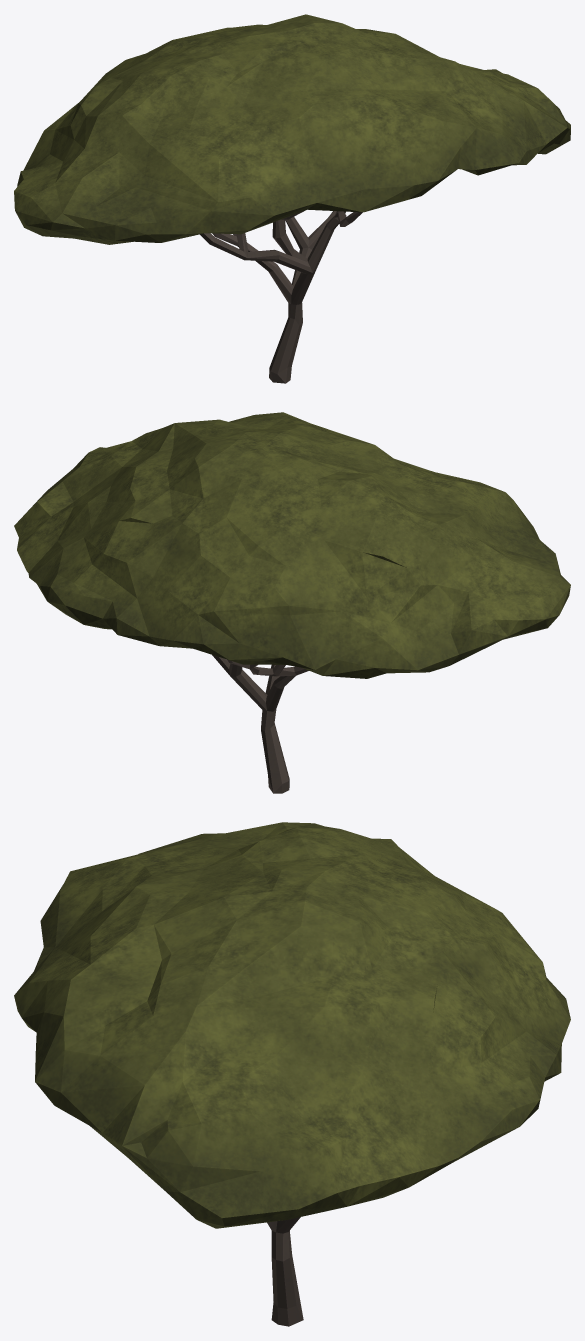
File: ThornTree.OBJ
3 views of the same model, one above another, from view 1: azimuth 30°, elevation 25°; view 2: azimuth 150°, elevation 25°; view 3: azimuth 270°, elevation 25° (orthographic). The views are drawn at different scales.
Parts seen in each view (by area): view 1: ThornTree_Mesh; view 2: ThornTree_Mesh; view 3: ThornTree_Mesh.
Part boxes in pixels (x1,y1,x2,y2): ThornTree_Mesh: [14, 14, 570, 383]; ThornTree_Mesh: [14, 412, 570, 793]; ThornTree_Mesh: [14, 822, 570, 1326].
Size of the model in its own units: 10.24 by 6.26 by 7.1.
1 material, 1 textured.
